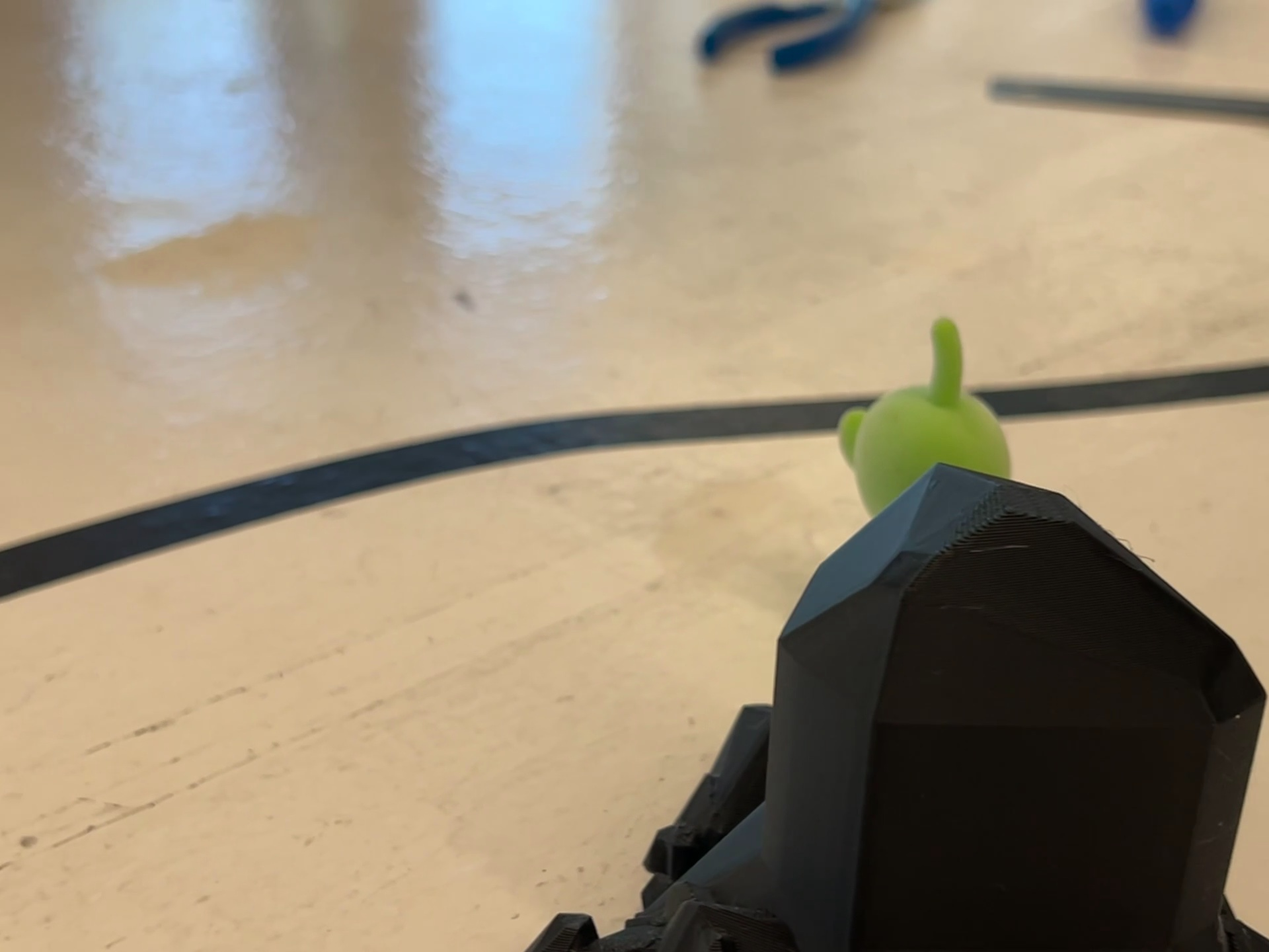teletubby: (839, 318, 1011, 516)
